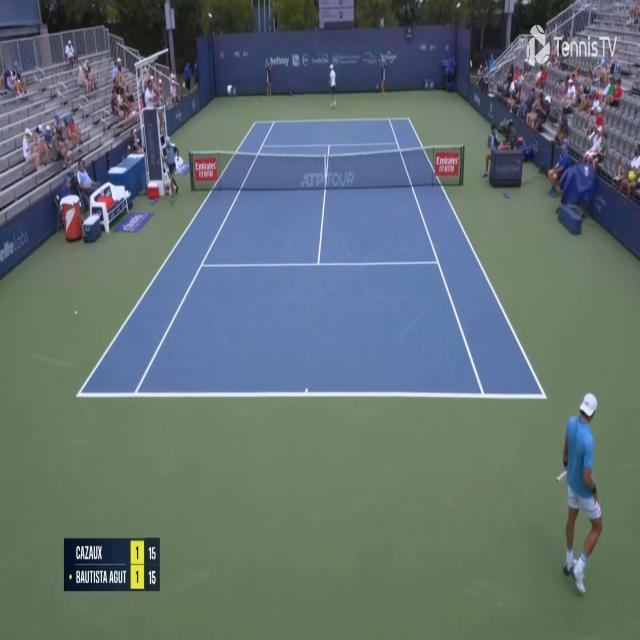tennis-player: (554, 387, 608, 598), (328, 60, 339, 108)
